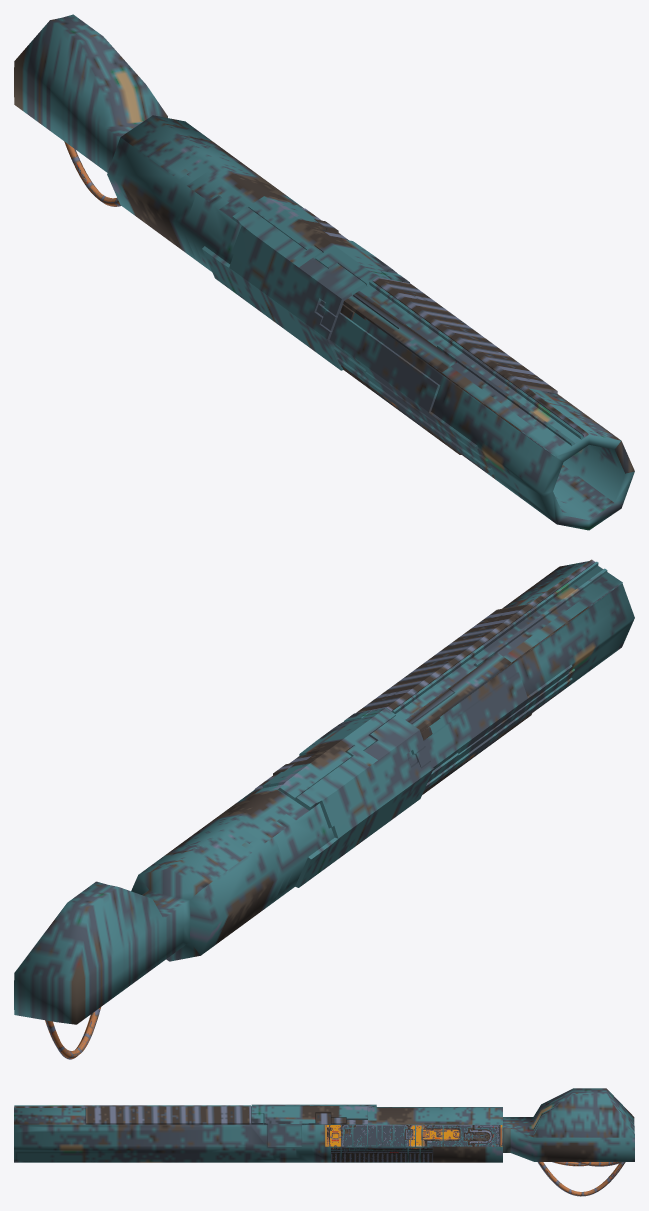
File: SM_Debris_01.fbx
3 renders of one model, top to bottom at view 1: azimuth 30°, elevation 25°; view 2: azimuth 150°, elevation 25°; view 3: azimuth 270°, elevation 25°, orthographic. The views are drawn at different scales.
Visible parts, largest first — view 1: Cylinder.005; view 2: Cylinder.005; view 3: Cylinder.005.
Part boxes in pixels (box(x1,y1,x2,y2)): Cylinder.005: box(14, 14, 634, 530); Cylinder.005: box(14, 559, 634, 1059); Cylinder.005: box(14, 1088, 634, 1196).
Bounding box in the file's own units: 51.06 × 88.23 × 502.
